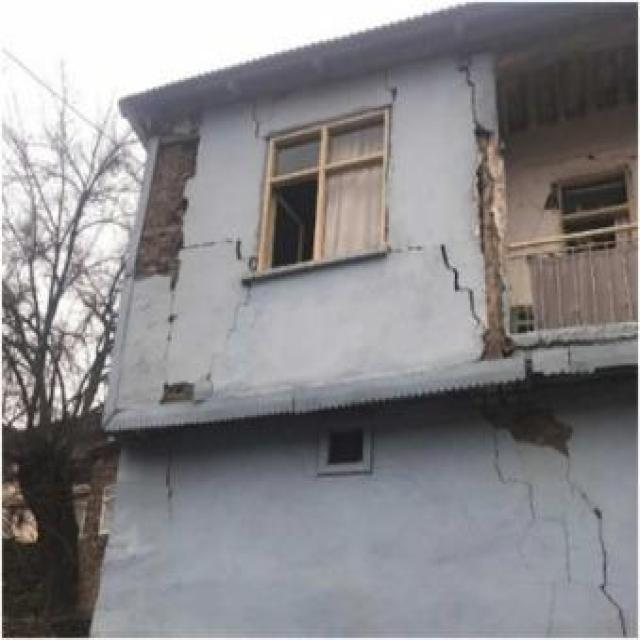damage: (125, 104, 206, 287), (549, 488, 640, 640), (409, 232, 486, 338), (204, 268, 272, 382), (489, 398, 597, 469), (148, 439, 216, 543), (436, 52, 518, 130), (472, 434, 545, 520), (234, 95, 291, 162), (364, 63, 426, 119), (159, 288, 192, 381)
